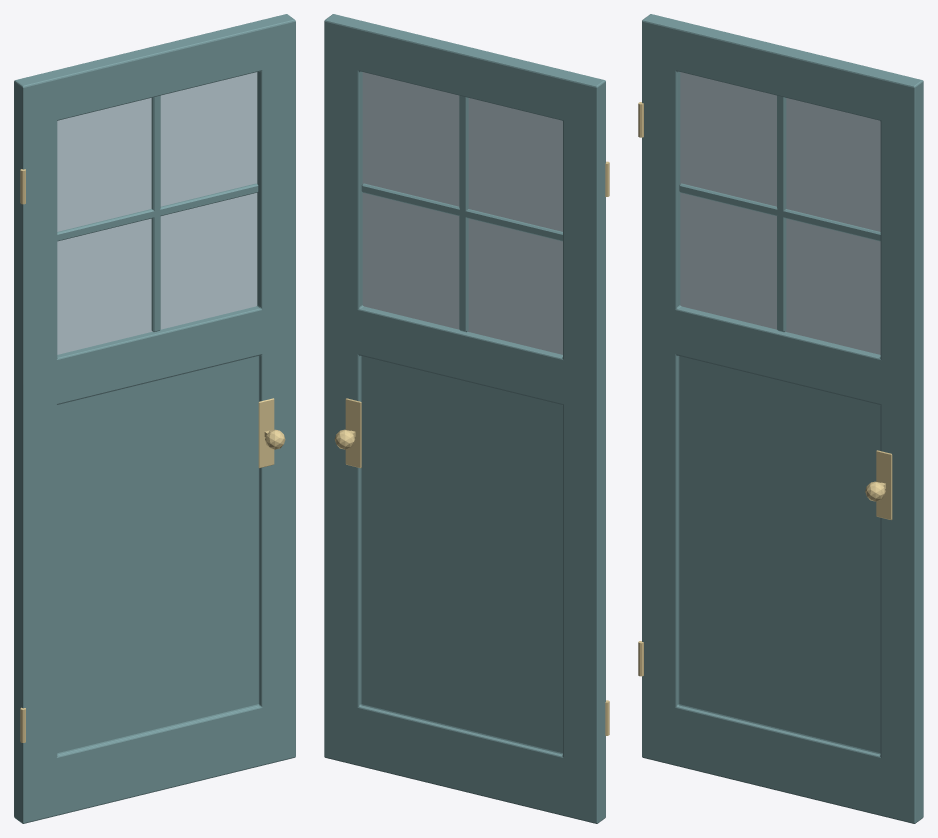
The model's file is door_leaf_front.glb.
3 renders of one model, left to right at view 1: azimuth 30°, elevation 25°; view 2: azimuth 150°, elevation 25°; view 3: azimuth 330°, elevation 25°, orthographic.
Visible parts, largest first — view 1: door_leaf_front_door, door_leaf_front_glass, door_leaf_front_brass; view 2: door_leaf_front_door, door_leaf_front_glass, door_leaf_front_brass; view 3: door_leaf_front_door, door_leaf_front_glass, door_leaf_front_brass.
Boxes of the visible parts, x1,y1,x2,y2 form: door_leaf_front_door: (14, 14, 295, 823); door_leaf_front_glass: (57, 72, 257, 354); door_leaf_front_brass: (20, 169, 285, 742); door_leaf_front_door: (324, 14, 605, 823); door_leaf_front_glass: (362, 72, 562, 354); door_leaf_front_brass: (334, 161, 609, 735); door_leaf_front_door: (642, 14, 923, 823); door_leaf_front_glass: (680, 72, 880, 354); door_leaf_front_brass: (638, 102, 892, 676).
Size of the model in its own units: 0.868 by 2.22 by 0.206.
